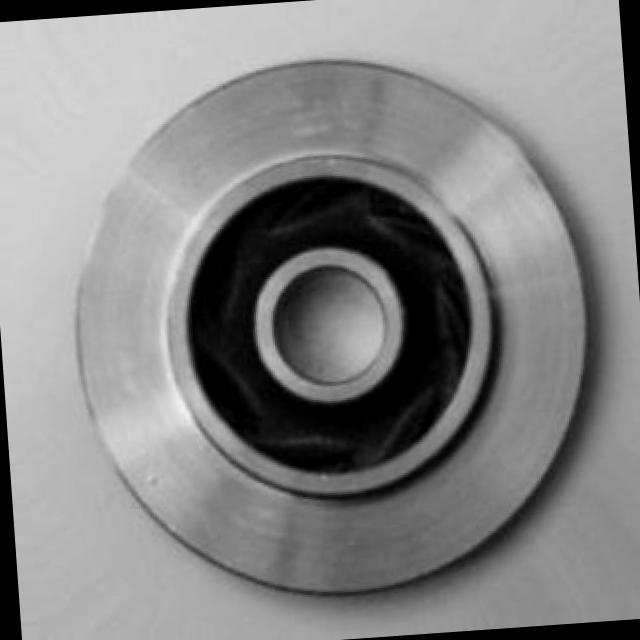Defect: (147, 470, 168, 492)
